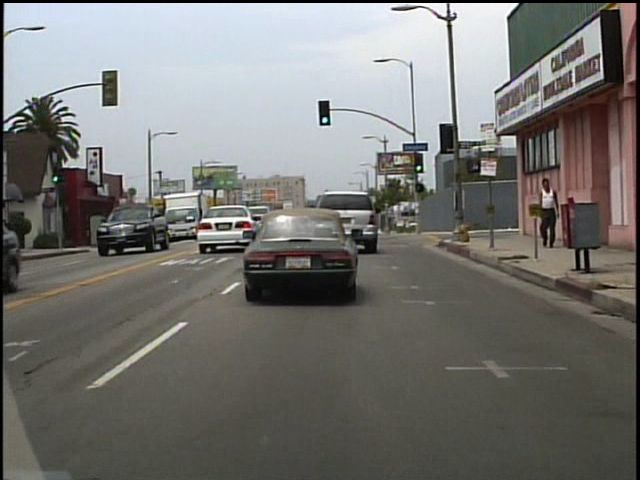person: (536, 174, 566, 252)
